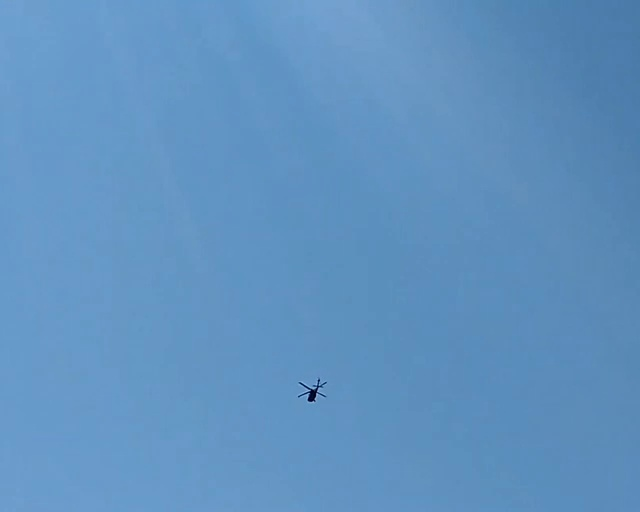HELICOPTER: (297, 376, 328, 402)
